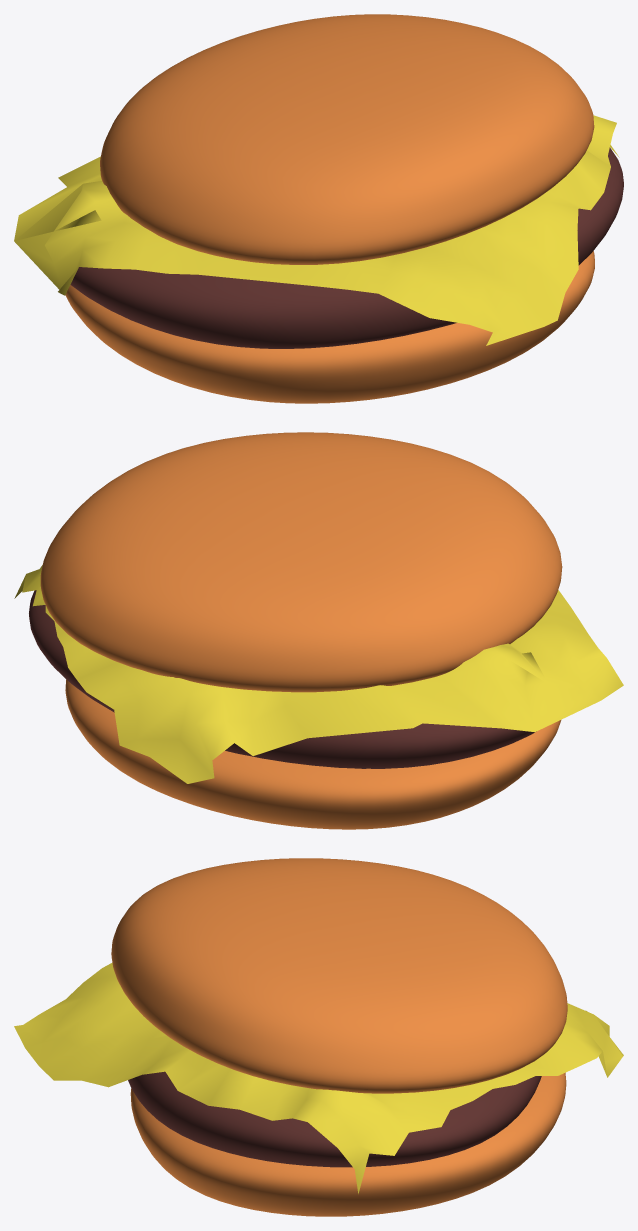
File: burger.glb
The picture shows the model from 3 angles, top to bottom: view 1: azimuth 30°, elevation 25°; view 2: azimuth 150°, elevation 25°; view 3: azimuth 270°, elevation 25°; orthographic projection. The views are drawn at different scales.
Visible parts, largest first — view 1: Cube.002, Plane, Cube, Cube.001; view 2: Cube.002, Plane, Cube, Cube.001; view 3: Cube.002, Plane, Cube, Cube.001.
Boxes of the visible parts, bbox=[...] form: Cube.002: bbox=[100, 14, 594, 264]; Plane: bbox=[14, 115, 619, 345]; Cube: bbox=[65, 251, 594, 403]; Cube.001: bbox=[70, 147, 623, 348]; Cube.002: bbox=[40, 432, 562, 692]; Plane: bbox=[14, 565, 623, 783]; Cube: bbox=[65, 679, 561, 829]; Cube.001: bbox=[29, 590, 536, 768]; Cube.002: bbox=[111, 858, 567, 1093]; Plane: bbox=[14, 963, 623, 1193]; Cube: bbox=[130, 1072, 566, 1216]; Cube.001: bbox=[128, 1071, 541, 1167].
Bounding box in the file's own units: 6.85 × 2.97 × 6.51.
